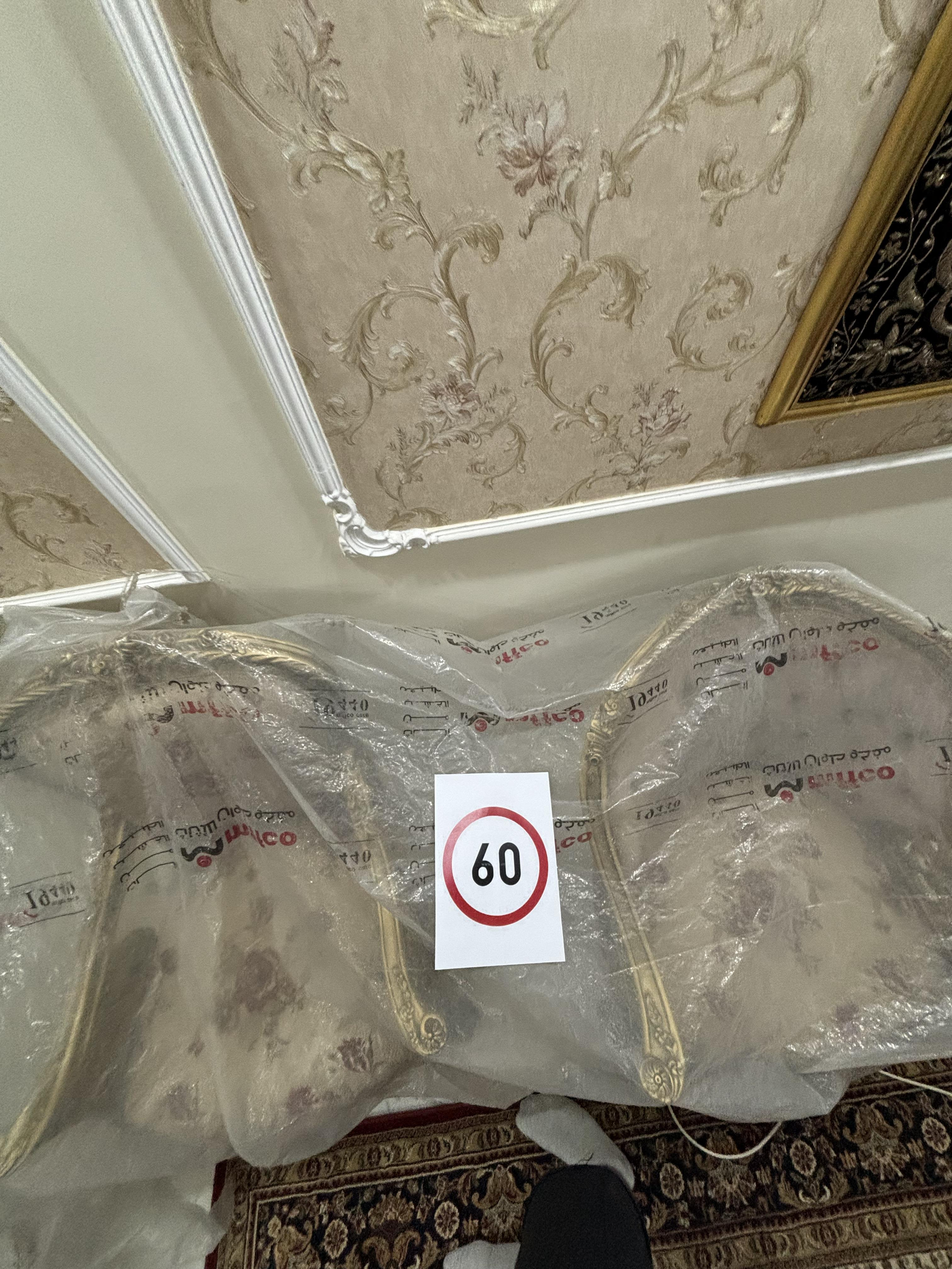60-Speed: (439, 799, 552, 931)
